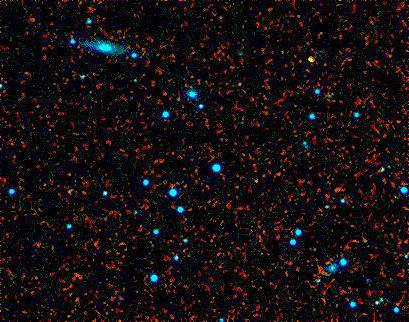star: (296, 47, 326, 77)
